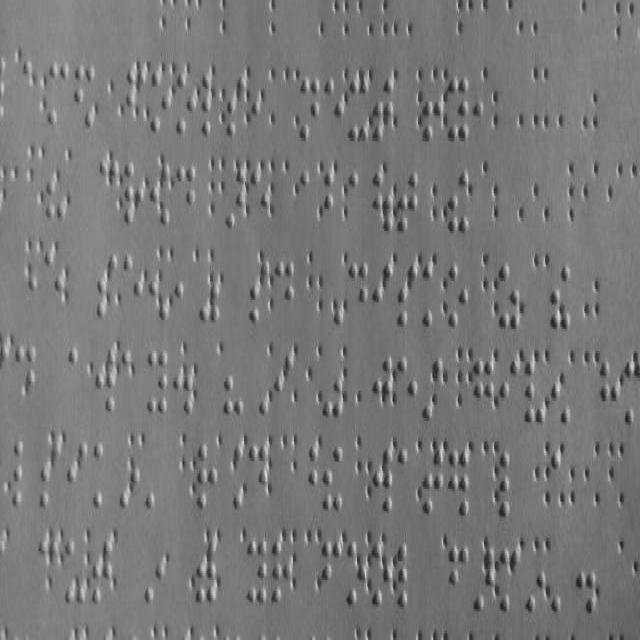braiile: (498, 448, 524, 521), (396, 541, 422, 610), (92, 437, 116, 510), (332, 442, 356, 514), (12, 434, 34, 512), (68, 343, 90, 417), (422, 444, 444, 516), (246, 536, 268, 606), (48, 61, 70, 130), (146, 348, 168, 417), (321, 539, 343, 608), (447, 544, 471, 606), (449, 72, 469, 146), (474, 354, 494, 428), (500, 354, 520, 428), (248, 441, 268, 515), (600, 357, 620, 430), (526, 356, 546, 426), (44, 250, 64, 319), (348, 261, 368, 330), (423, 261, 443, 330), (448, 261, 468, 330), (198, 439, 218, 508), (151, 68, 171, 136), (300, 76, 320, 142), (324, 76, 344, 142), (275, 258, 295, 324), (398, 356, 418, 422), (272, 538, 292, 604), (398, 171, 419, 233), (176, 72, 196, 137), (398, 446, 417, 514), (350, 74, 368, 144), (124, 253, 142, 320), (300, 167, 318, 229), (177, 164, 195, 224), (325, 170, 343, 230)
